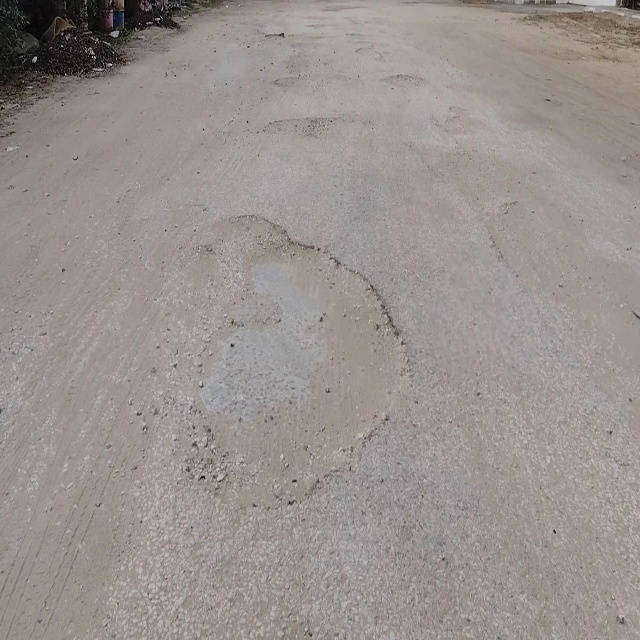pothole: (178, 212, 414, 522)
